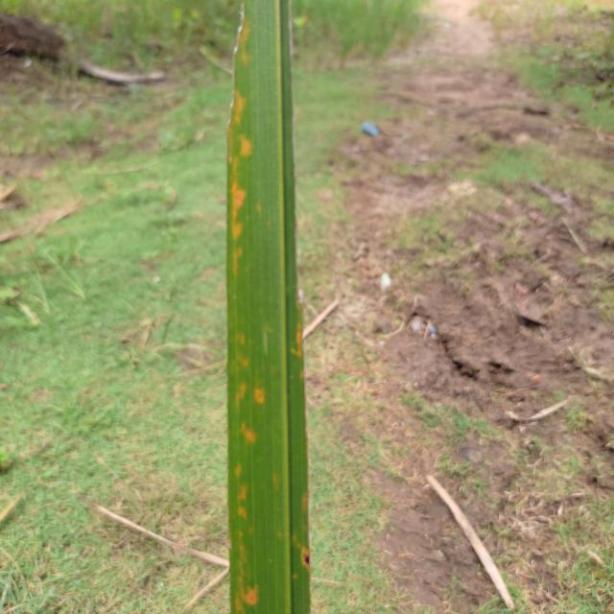Kalium: (227, 0, 315, 614)
